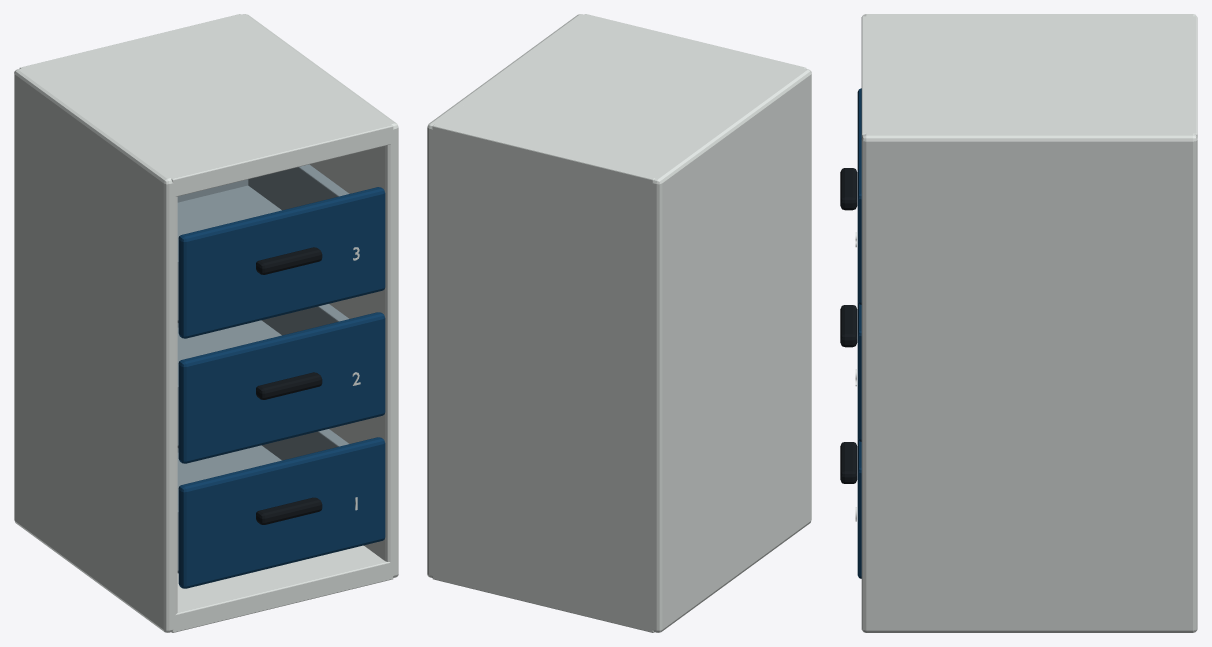
3 renders of one model, left to right at view 1: azimuth 30°, elevation 25°; view 2: azimuth 150°, elevation 25°; view 3: azimuth 270°, elevation 25°, orthographic. The views are drawn at different scales.
Visible parts, largest first — view 1: BODY_Side.001, BODY_Rail, DRAWER_Front, DRAWER_Front.002, DRAWER_Front.001, BODY_Side, BODY_Rail.001, DRAWER_Bottom.002, DRAWER_Side.005, DRAWER_Bottom, DRAWER_Bottom.001, BODY_Back (+5 smaller); view 2: BODY_Back, BODY_Side.001, BODY_Rail, BODY_Side, BODY_Rail.001; view 3: BODY_Side, BODY_Rail, BODY_Back, BODY_Side.001, DRAWER_Front.002, HANDLE.001, HANDLE.002, HANDLE, DRAWER_Front, DRAWER_Front.001.
Boxes of the visible parts, x1,y1,x2,y2 form: BODY_Side.001: (14,68,177,632); BODY_Rail: (30,19,393,196); DRAWER_Front: (178,437,385,588); DRAWER_Front.002: (178,187,385,338); DRAWER_Front.001: (178,312,385,463); BODY_Side: (240,14,398,577); BODY_Rail.001: (171,545,393,632); DRAWER_Bottom.002: (177,185,281,323); DRAWER_Side.005: (248,164,349,210); DRAWER_Bottom: (177,445,281,573); DRAWER_Bottom.001: (177,320,281,448); BODY_Back: (19,14,245,71); BODY_Back: (432,120,659,632); BODY_Side.001: (650,68,811,632); BODY_Rail: (433,14,806,196); BODY_Side: (427,14,585,577); BODY_Rail.001: (432,562,653,632); BODY_Side: (861,132,1197,632); BODY_Rail: (861,16,1197,137); BODY_Back: (1182,16,1197,136); BODY_Side.001: (863,14,1196,17); DRAWER_Front.002: (857,88,861,304); HANDLE.001: (840,305,857,347); HANDLE.002: (840,168,857,210); HANDLE: (840,442,857,483); DRAWER_Front: (857,439,861,578); DRAWER_Front.001: (857,302,861,441).
Bounding box in the file's own units: 0.53 × 0.98 × 0.638.
